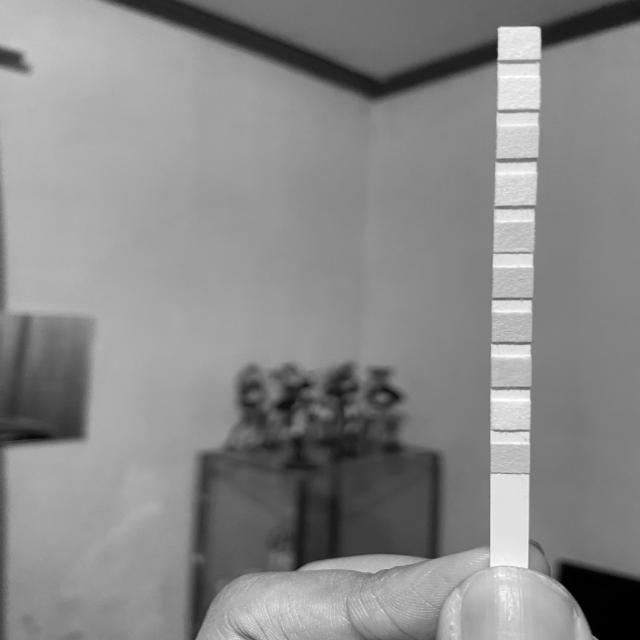Bilirubin: (491, 402, 531, 429)
Blood: (493, 268, 533, 298)
Glucose: (491, 445, 530, 473)
Ketone: (491, 358, 531, 386)
Leukocytes: (498, 29, 540, 60)
Nitrite: (498, 77, 540, 109)
Protein: (495, 174, 536, 205)
SpGravity: (492, 313, 532, 342)
Urobilinogen: (497, 127, 538, 158)
background: (0, 0, 640, 640)
pH: (494, 223, 534, 252)
strip: (491, 26, 541, 565)
